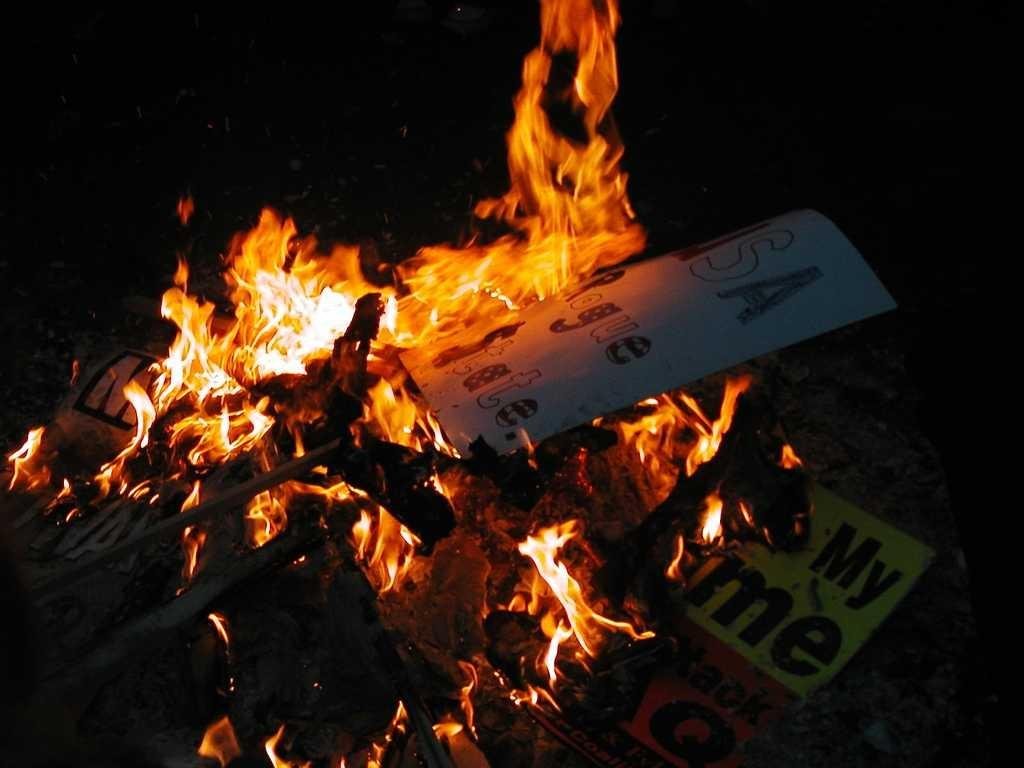fire: (237, 246, 357, 364), (526, 138, 626, 267), (398, 246, 522, 349), (526, 531, 608, 646), (629, 393, 705, 489), (151, 341, 227, 427), (546, 0, 615, 79), (346, 518, 412, 573)
